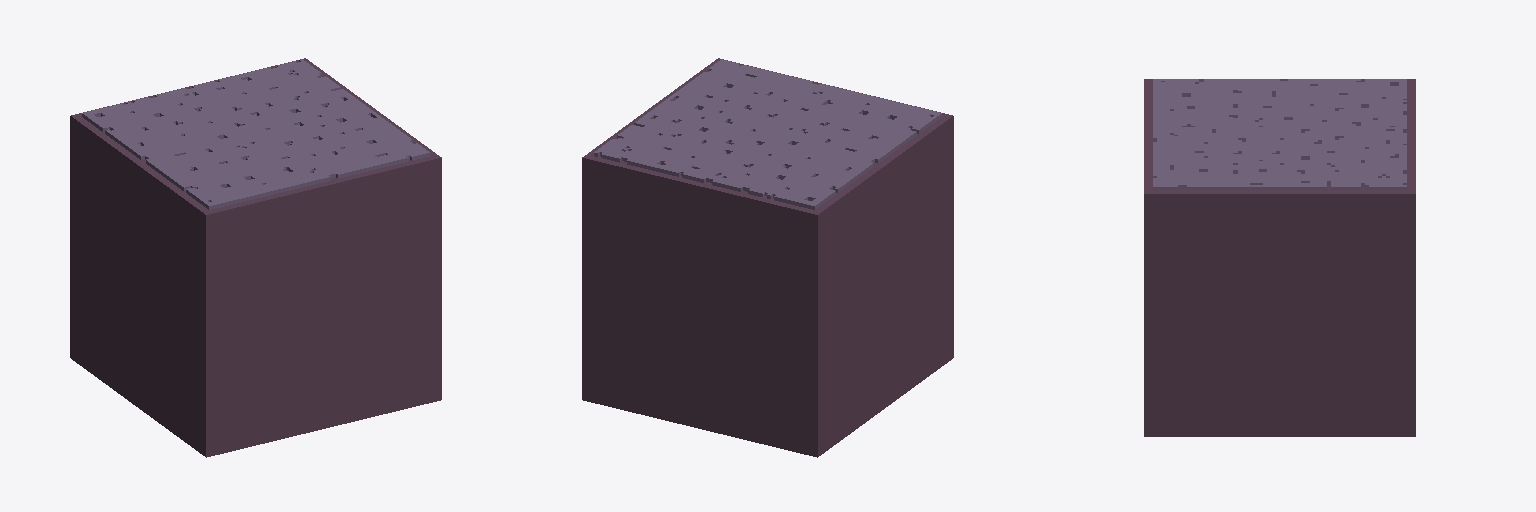
3 renders of one model, left to right at view 1: azimuth 30°, elevation 25°; view 2: azimuth 150°, elevation 25°; view 3: azimuth 270°, elevation 25°, orthographic.
Parts seen in each view (by area): view 1: object 1; view 2: object 1; view 3: object 1.
Part boxes in pixels (bbox=[...]): object 1: bbox=[70, 58, 441, 457]; object 1: bbox=[582, 58, 953, 457]; object 1: bbox=[1144, 79, 1415, 436].
Size of the model in its own units: 6.4 by 6.4 by 6.4.
1 materials, 1 textured.